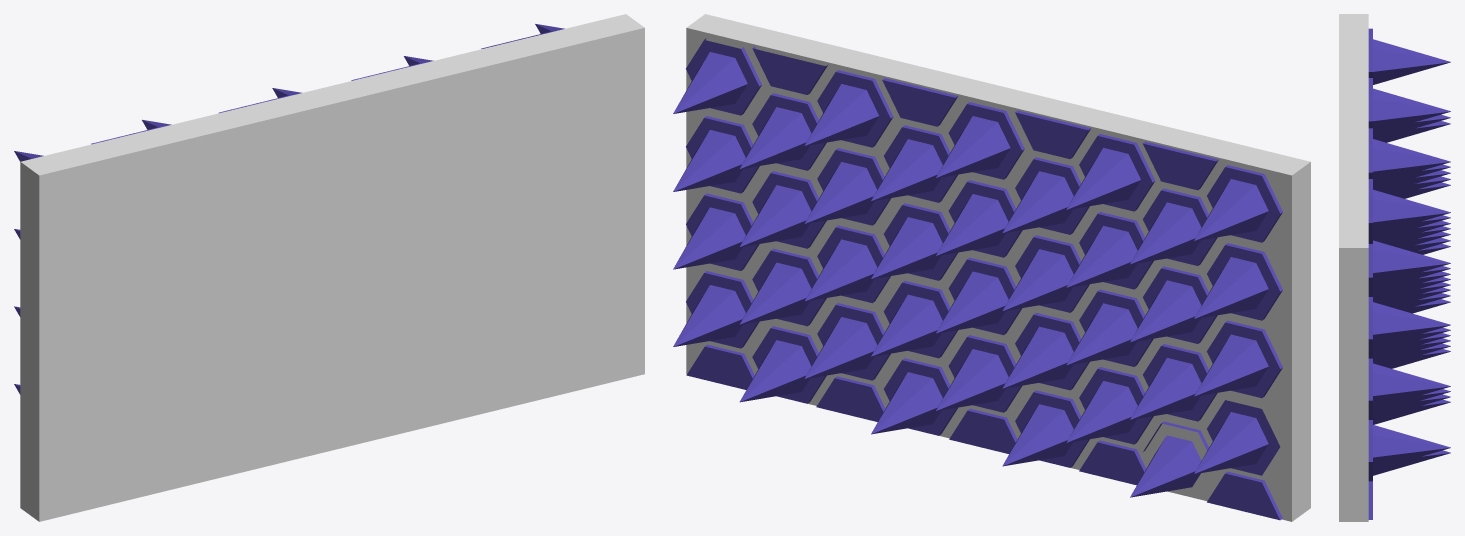
File: spike4.fbx
3 views of the same model, side by side, from view 1: azimuth 30°, elevation 25°; view 2: azimuth 150°, elevation 25°; view 3: azimuth 270°, elevation 25° (orthographic). The views are drawn at different scales.
Parts seen in each view (by area): view 1: Cube.005; view 2: Cube.005; view 3: Cube.005.
Part boxes in pixels (box(x1,y1,x2,y2)): Cube.005: box(14, 14, 644, 521); Cube.005: box(673, 14, 1310, 521); Cube.005: box(1339, 14, 1450, 521).
Size of the model in its own units: 1832 by 1001 by 371.
